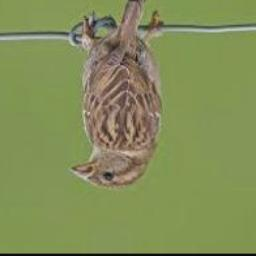Sparrow: (69, 0, 161, 191)
